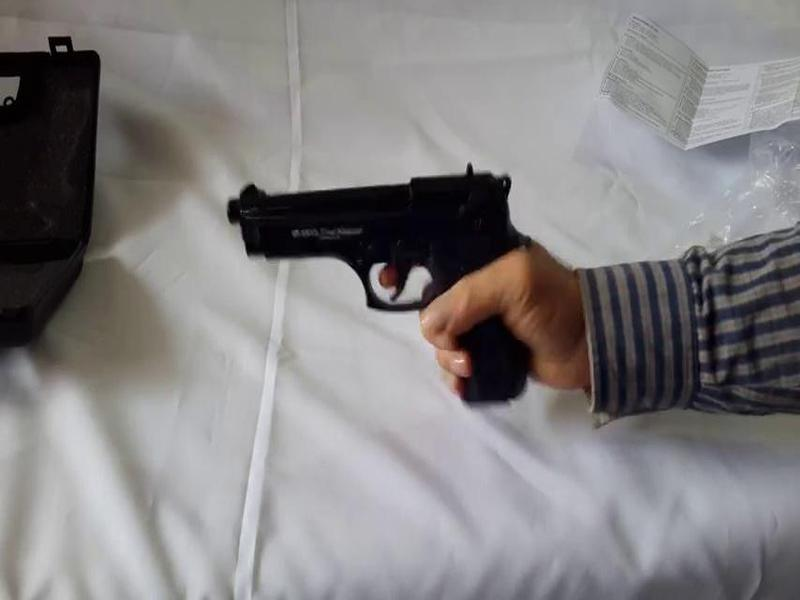Pistola: (215, 164, 551, 419)
